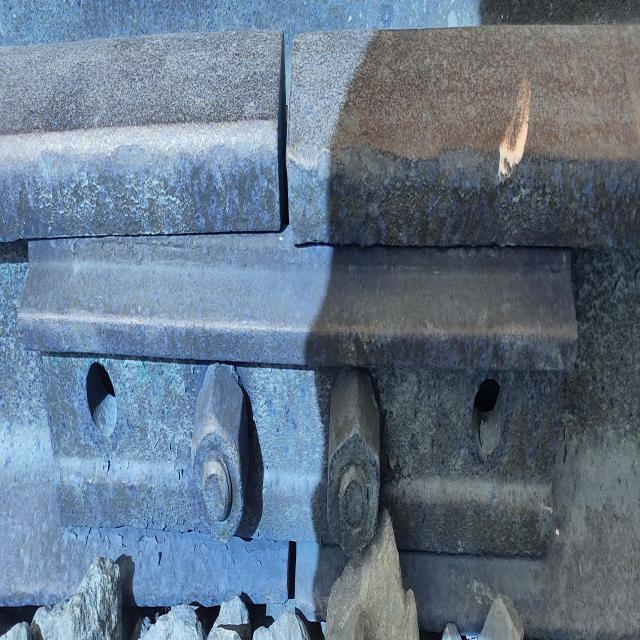Defective Joint: (27, 236, 569, 614)
